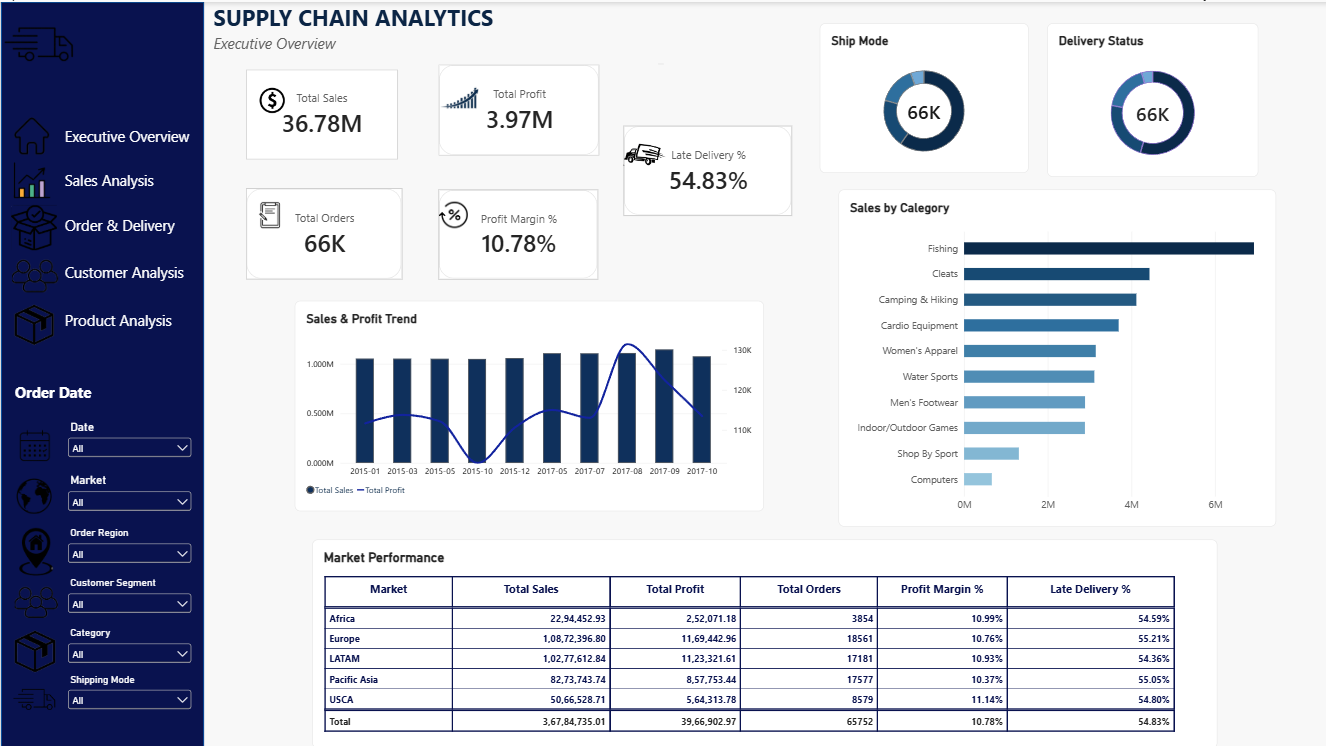

This screenshot's page, from the dashboard's own definition file:
{"tool":"powerbi","page":{"name":"Final Dashboard","canvas":[1920,1080],"ordinal":0},"visuals":[{"type":"shape","box":[0,0,294,1080],"z":0},{"type":"textbox","title":"SUPPLY CHAIN ANALYTICS","box":[308,0,652,90],"z":1},{"type":"cardVisual","fields":{"Data":["Fact_SupplyChain.Total Sales"]},"box":[354.7,97.7,220.8,130.3],"z":2},{"type":"cardVisual","fields":{"Data":["Fact_SupplyChain.Total Profit"]},"box":[633.4,90.5,233.4,132.1],"z":3},{"type":"cardVisual","fields":{"Data":["Fact_SupplyChain.Total Orders"]},"box":[354,269.6,226.2,132.1],"z":4},{"type":"cardVisual","fields":{"Data":["Fact_SupplyChain.Profit Margin %"]},"box":[634,271.7,231.6,130.3],"z":5},{"type":"cardVisual","fields":{"Data":["Fact_SupplyChain.Late Delivery %"]},"box":[901.5,179.1,244.3,130.3],"z":6},{"type":"lineClusteredColumnComboChart","title":"Sales & Profit Trend","fields":{"Category":["Dim_Date.Year Month"],"Y":["Fact_SupplyChain.Total Sales"],"Y2":["Fact_SupplyChain.Total Profit"]},"box":[426.1,432.2,679.2,304.6],"z":8},{"type":"clusteredBarChart","title":"Sales by Calegory","fields":{"Category":["Fact_SupplyChain.Category"],"Y":["Fact_SupplyChain.Total Sales"]},"box":[1212.4,271.7,634,487.8],"z":9},{"type":"donutChart","title":"Delivery Status","fields":{"Category":["Fact_SupplyChain.Delivery Status"],"Y":["Fact_SupplyChain.Total Orders"]},"box":[1514.9,30.9,305.8,222.6],"z":10},{"type":"donutChart","title":"Ship Mode","fields":{"Category":["Fact_SupplyChain.Shipping Mode"],"Y":["Fact_SupplyChain.Total Orders"]},"box":[1185.6,30.9,302.2,217.2],"z":11},{"type":"tableEx","title":"Market Performance","fields":{"Values":["Fact_SupplyChain.Market","Fact_SupplyChain.Total Sales","Fact_SupplyChain.Total Profit","Fact_SupplyChain.Total Orders","Fact_SupplyChain.Profit Margin %","Fact_SupplyChain.Late Delivery %"]},"box":[450.6,778.2,1310.2,302.2],"z":12},{"type":"textbox","box":[92,180,188,46],"z":14},{"type":"image","box":[14,166,60,54],"z":16},{"type":"image","box":[14,226,60,66],"z":17},{"type":"textbox","box":[92,242,188,40],"z":18},{"type":"image","box":[0,0,110,116],"z":19},{"type":"image","box":[14,292,66,70],"z":20},{"type":"textbox","box":[92,308,188,54],"z":21},{"type":"image","box":[16,362,66,68],"z":22},{"type":"textbox","box":[92,376,188,40],"z":23},{"type":"image","box":[14,430,68,70],"z":24},{"type":"textbox","box":[92,446,188,54],"z":25},{"type":"image","box":[14,618,68,46],"z":27},{"type":"image","box":[22,682,54,66],"z":29},{"type":"slicer","fields":{"Values":["Fact_SupplyChain.Market"]},"box":[92,682,188,66],"z":30},{"type":"slicer","fields":{"Values":["Dim_Date.Date"]},"box":[92,604,188,78],"z":31},{"type":"textbox","box":[20,550,196,36],"z":32},{"type":"image","box":[16,760,68,72],"z":33},{"type":"slicer","fields":{"Values":["Fact_SupplyChain.Order Region"]},"box":[92,760,188,72],"z":34},{"type":"image","box":[20,832,62,72],"z":35},{"type":"slicer","fields":{"Values":["Fact_SupplyChain.Customer Segment"]},"box":[92,832,188,68],"z":36},{"type":"image","box":[14,904,70,68],"z":37},{"type":"slicer","fields":{"Values":["Fact_SupplyChain.Category"]},"box":[92,904,188,68],"z":38},{"type":"image","box":[14,972,68,72],"z":39},{"type":"slicer","fields":{"Values":["Fact_SupplyChain.Shipping Mode"]},"box":[92,972,188,72],"z":40},{"type":"image","box":[369.2,121.2,47.1,41.6],"z":41},{"type":"image","box":[633.4,121.2,61.5,36.2],"z":42},{"type":"image","box":[364.3,288.2,50.7,41.6],"z":43},{"type":"image","box":[634,288.2,43.4,39.8],"z":45},{"type":"image","box":[901.5,199.7,61.5,41.6],"z":46}]}

Visuals, with their boxes on the page's 1920x1080 design canvas (x1, y1, x2, y2). These are canvas units, not pixel positions in the 1326x746 screenshot, which may show the page scaled, cropped or inside an application window:
shape: detection(0, 0, 294, 1080)
"SUPPLY CHAIN ANALYTICS" textbox: detection(308, 0, 960, 90)
cardVisual - Fact_SupplyChain.Total Sales: detection(355, 98, 576, 228)
cardVisual - Fact_SupplyChain.Total Profit: detection(633, 90, 867, 223)
cardVisual - Fact_SupplyChain.Total Orders: detection(354, 270, 580, 402)
cardVisual - Fact_SupplyChain.Profit Margin %: detection(634, 272, 866, 402)
cardVisual - Fact_SupplyChain.Late Delivery %: detection(902, 179, 1146, 309)
"Sales & Profit Trend" lineClusteredColumnComboChart: detection(426, 432, 1105, 737)
"Sales by Calegory" clusteredBarChart: detection(1212, 272, 1846, 760)
"Delivery Status" donutChart: detection(1515, 31, 1821, 254)
"Ship Mode" donutChart: detection(1186, 31, 1488, 248)
"Market Performance" tableEx: detection(451, 778, 1761, 1080)
textbox: detection(92, 180, 280, 226)
image: detection(14, 166, 74, 220)
image: detection(14, 226, 74, 292)
textbox: detection(92, 242, 280, 282)
image: detection(0, 0, 110, 116)
image: detection(14, 292, 80, 362)
textbox: detection(92, 308, 280, 362)
image: detection(16, 362, 82, 430)
textbox: detection(92, 376, 280, 416)
image: detection(14, 430, 82, 500)
textbox: detection(92, 446, 280, 500)
image: detection(14, 618, 82, 664)
image: detection(22, 682, 76, 748)
slicer - Fact_SupplyChain.Market: detection(92, 682, 280, 748)
slicer - Dim_Date.Date: detection(92, 604, 280, 682)
textbox: detection(20, 550, 216, 586)
image: detection(16, 760, 84, 832)
slicer - Fact_SupplyChain.Order Region: detection(92, 760, 280, 832)
image: detection(20, 832, 82, 904)
slicer - Fact_SupplyChain.Customer Segment: detection(92, 832, 280, 900)
image: detection(14, 904, 84, 972)
slicer - Fact_SupplyChain.Category: detection(92, 904, 280, 972)
image: detection(14, 972, 82, 1044)
slicer - Fact_SupplyChain.Shipping Mode: detection(92, 972, 280, 1044)
image: detection(369, 121, 416, 163)
image: detection(633, 121, 695, 157)
image: detection(364, 288, 415, 330)
image: detection(634, 288, 677, 328)
image: detection(902, 200, 963, 241)
